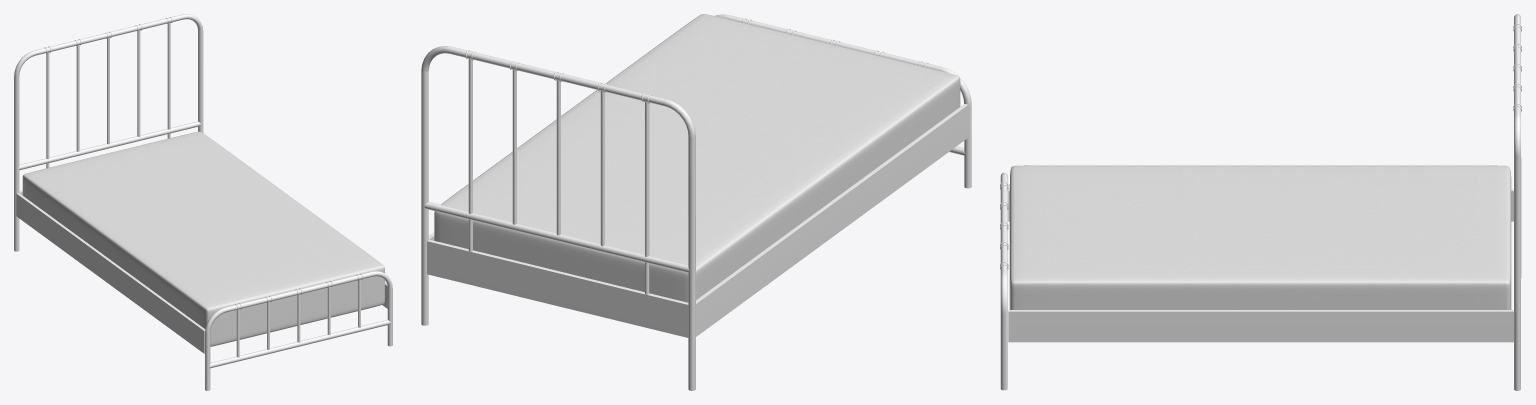
File: bed_01_04.fbx
3 views of the same model, side by side, from view 1: azimuth 30°, elevation 25°; view 2: azimuth 150°, elevation 25°; view 3: azimuth 270°, elevation 25° (orthographic). The views are drawn at different scales.
Parts seen in each view (by area): view 1: bed_01_04.001; view 2: bed_01_04.001; view 3: bed_01_04.001.
Part boxes in pixels (x1,y1,x2,y2): bed_01_04.001: (14, 14, 392, 390); bed_01_04.001: (421, 14, 971, 390); bed_01_04.001: (1000, 14, 1521, 390).
Size of the model in its own units: 116 by 115 by 207.
1 material, 1 textured.
